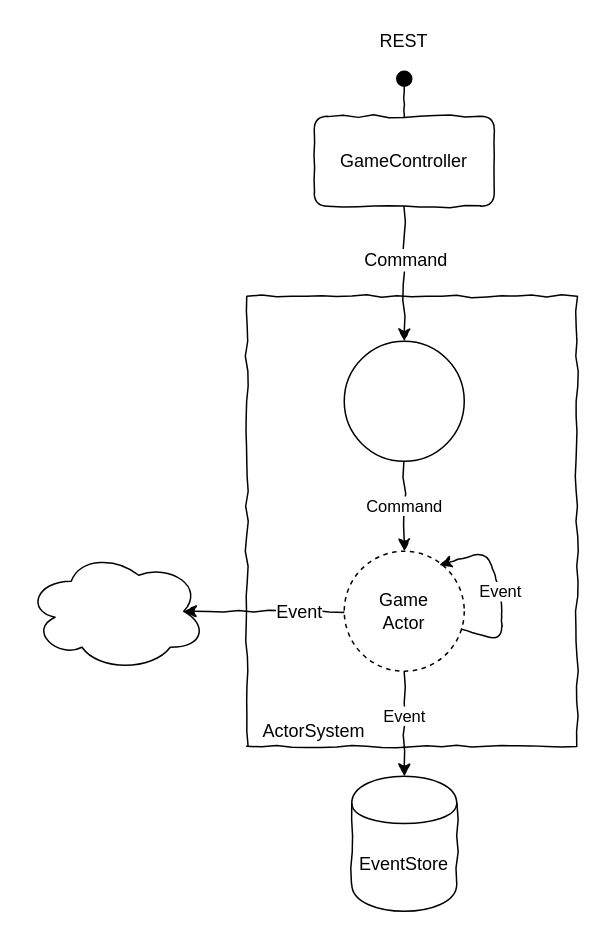
Some shapes in this 603 by 938 pixel diagram are drawn without their labels. The centre of each missing label's shape, as x and y in pixels:
"Distributed Pub/Sub" belongs at point 115,610.
"Game Manager Actor" belongs at point 403,400.
